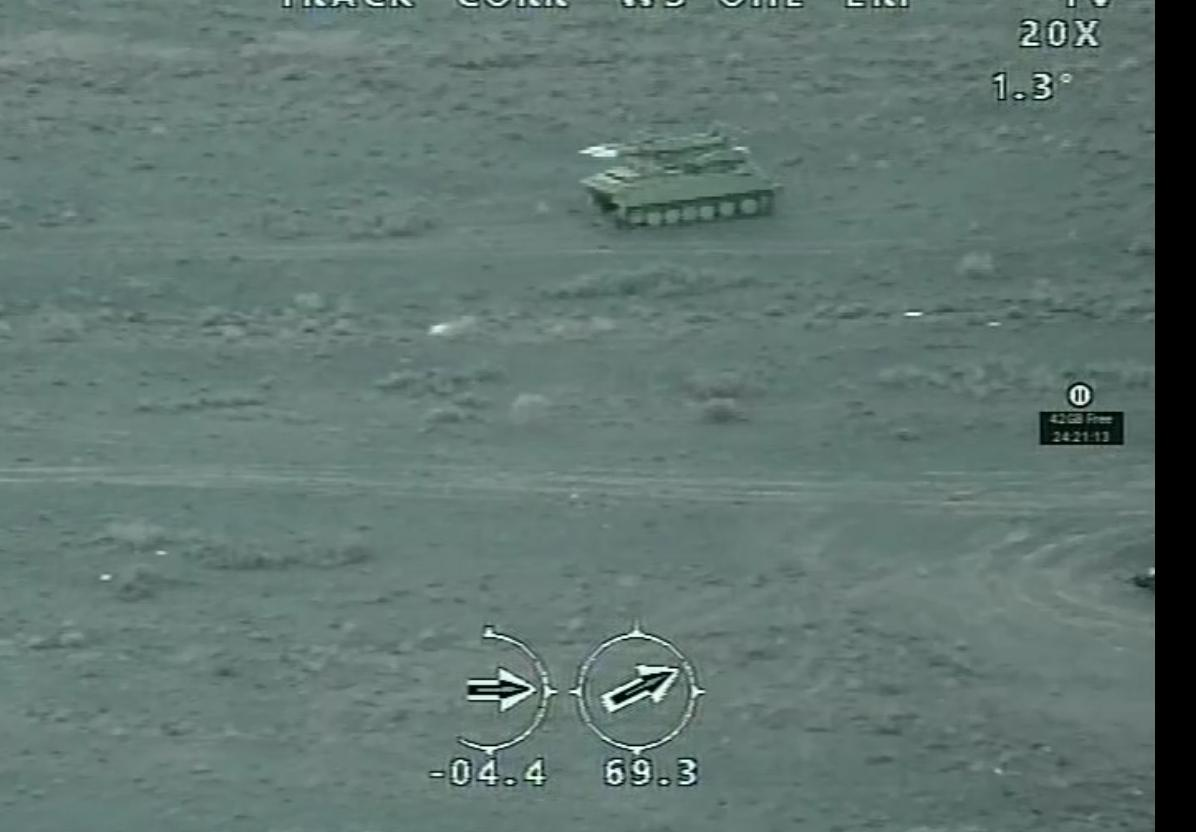armored_car: (576, 116, 783, 231)
